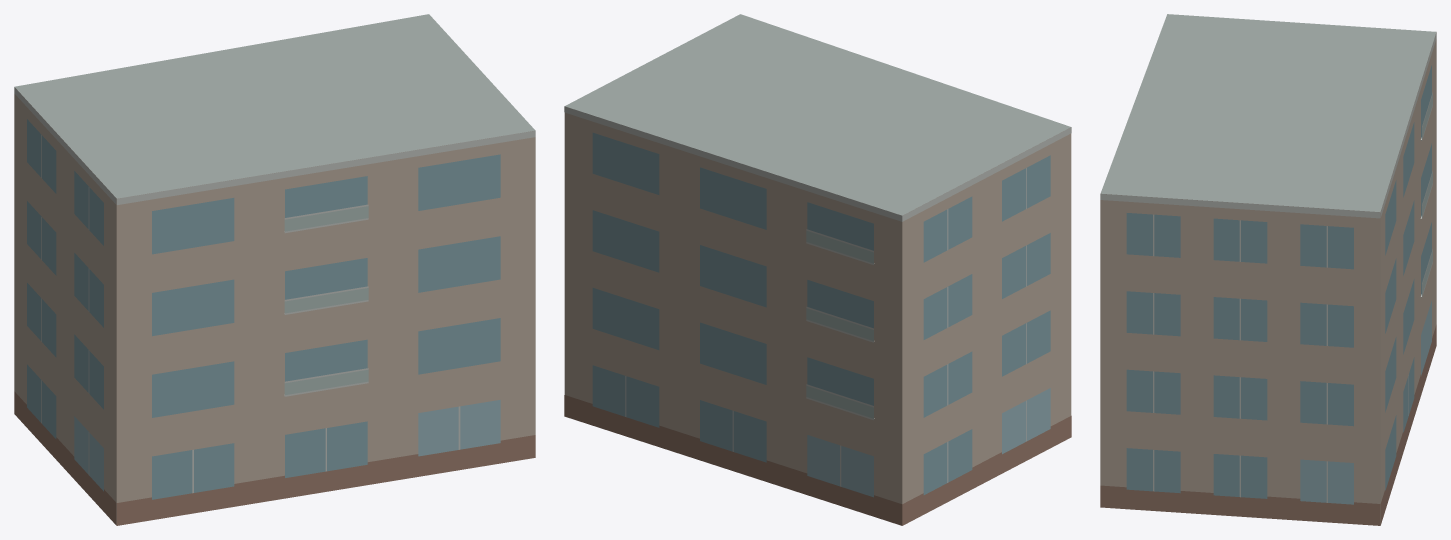
File: survey-upis-32979169.glb
3 renders of one model, left to right at view 1: azimuth 30°, elevation 25°; view 2: azimuth 150°, elevation 25°; view 3: azimuth 270°, elevation 25°, orthographic. The views are drawn at different scales.
Parts seen in each view (by area): view 1: survey-upis-32979169.tmp; view 2: survey-upis-32979169.tmp; view 3: survey-upis-32979169.tmp.
Part boxes in pixels (x1=…): survey-upis-32979169.tmp: x1=14, y1=14, x2=535, y2=525; survey-upis-32979169.tmp: x1=564, y1=14, x2=1071, y2=525; survey-upis-32979169.tmp: x1=1100, y1=14, x2=1436, y2=525.
Bounding box in the file's own units: 16.54 × 12.2 × 11.86.
